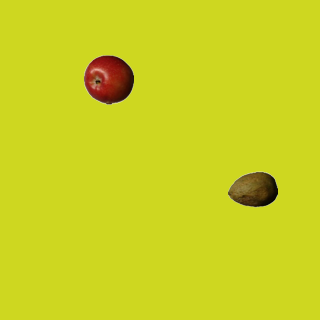Apple Braeburn: (83, 54, 133, 104)
Papaya: (227, 164, 277, 214)
